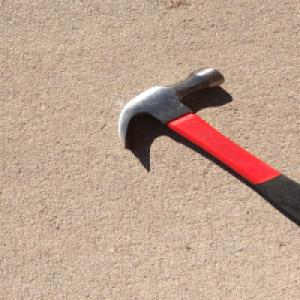Hammer: (114, 63, 300, 226)
